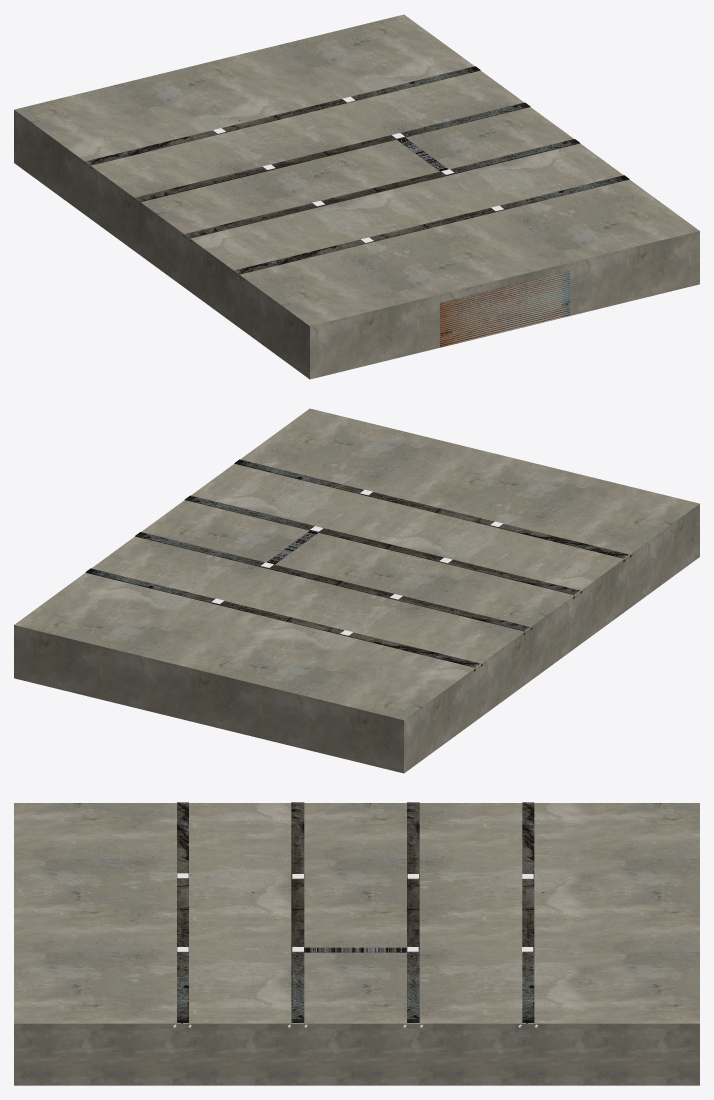
Rendered from empty-old-garage-room.glb.
3 views of the same model, one above another, from view 1: azimuth 30°, elevation 25°; view 2: azimuth 150°, elevation 25°; view 3: azimuth 270°, elevation 25° (orthographic). The views are drawn at different scales.
Visible parts, largest first — view 1: Cube.009_9, Cube.004_26, Cube.010_10, Cube.012_12, Cube.011_11, Cube.013_13; view 2: Cube.009_9, Cube.012_12, Cube.010_10, Cube.013_13, Cube.011_11; view 3: Cube.009_9, Cube.010_10, Cube.012_12, Cube.013_13, Cube.011_11, Cube.015_27.
Part boxes in pixels (bbox=[...]): Cube.009_9: bbox=[14, 14, 699, 379]; Cube.004_26: bbox=[440, 271, 569, 347]; Cube.010_10: bbox=[184, 139, 579, 238]; Cube.012_12: bbox=[135, 102, 530, 201]; Cube.011_11: bbox=[234, 175, 629, 274]; Cube.013_13: bbox=[85, 66, 480, 165]; Cube.009_9: bbox=[14, 408, 699, 773]; Cube.012_12: bbox=[135, 532, 530, 631]; Cube.010_10: bbox=[184, 495, 579, 595]; Cube.013_13: bbox=[85, 568, 480, 667]; Cube.011_11: bbox=[234, 459, 629, 558]; Cube.009_9: bbox=[14, 803, 699, 1085]; Cube.010_10: bbox=[291, 802, 304, 1023]; Cube.012_12: bbox=[407, 802, 419, 1023]; Cube.013_13: bbox=[522, 802, 534, 1023]; Cube.011_11: bbox=[177, 802, 188, 1023]; Cube.015_27: bbox=[304, 947, 406, 952].
Bounding box in the file's own units: 91.11 × 12.28 × 119.
Materials: 13 (12 with a texture image).
